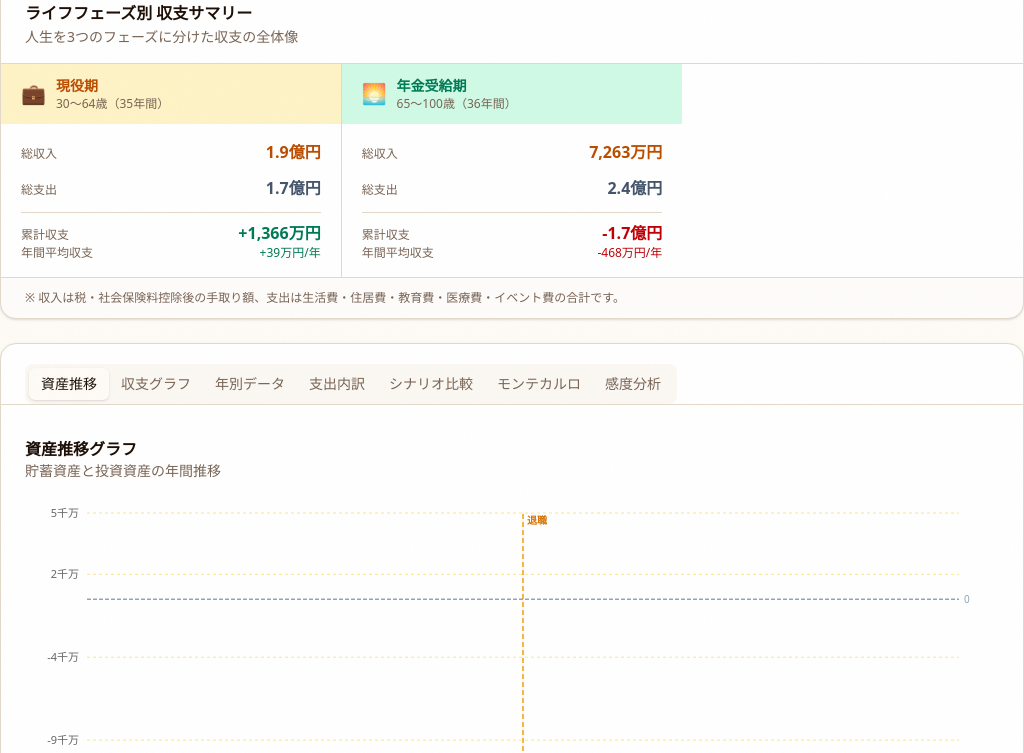
Test: ResultsView › clicking the 「年別データ」 tab switches to the yearly data table
(page scrolled)
Check: the text "年別データ表" is not shown
// Radix Tabs switches on onMouseDown (click does nothing)
Step 1. Press the mouse on the tab "年別データ" → (250,384), box x1=203 y1=368 x2=297 y2=400
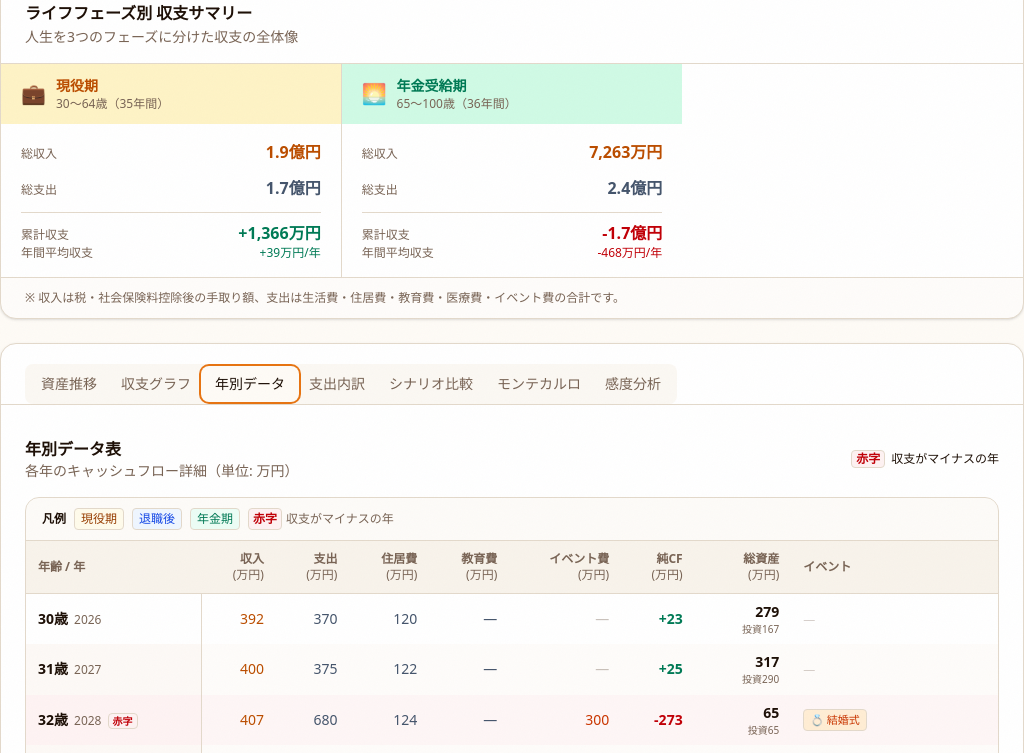
Check: the heading "年別データ表" is shown, box x1=25 y1=438 x2=121 y2=460
